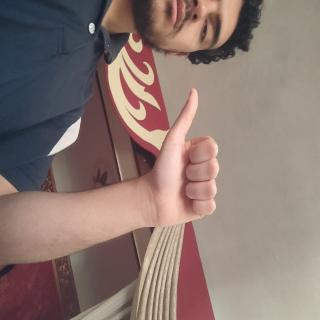DAD: (60, 127, 174, 237)
